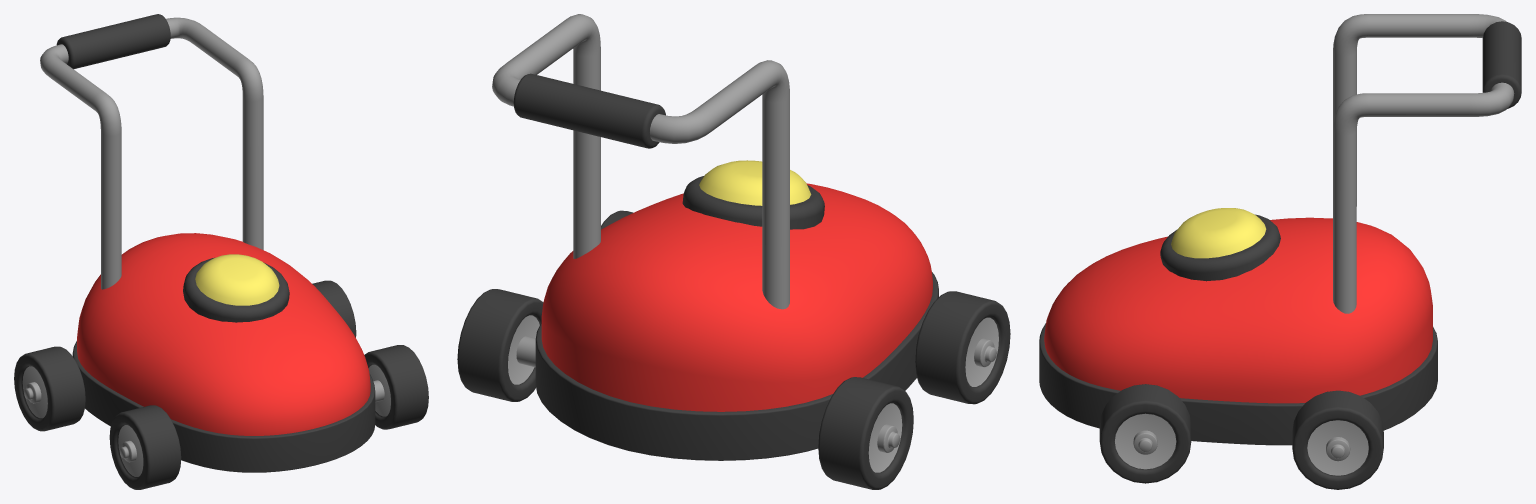
File: Farm_18_Lawn_Mover_1.glb
The picture shows the model from 3 angles, left to right: view 1: azimuth 30°, elevation 25°; view 2: azimuth 150°, elevation 25°; view 3: azimuth 270°, elevation 25°; orthographic projection. The views are drawn at different scales.
Visible parts, largest first — view 1: Farm_18_Lawn_Mover_1; view 2: Farm_18_Lawn_Mover_1; view 3: Farm_18_Lawn_Mover_1.
Boxes of the visible parts, x1=… form: Farm_18_Lawn_Mover_1: x1=14, y1=14, x2=428, y2=489; Farm_18_Lawn_Mover_1: x1=457, y1=14, x2=1010, y2=489; Farm_18_Lawn_Mover_1: x1=1039, y1=14, x2=1521, y2=489.
Bounding box in the file's own units: 1.44 × 1.36 × 1.66.
Materials: 1 (1 with a texture image).
